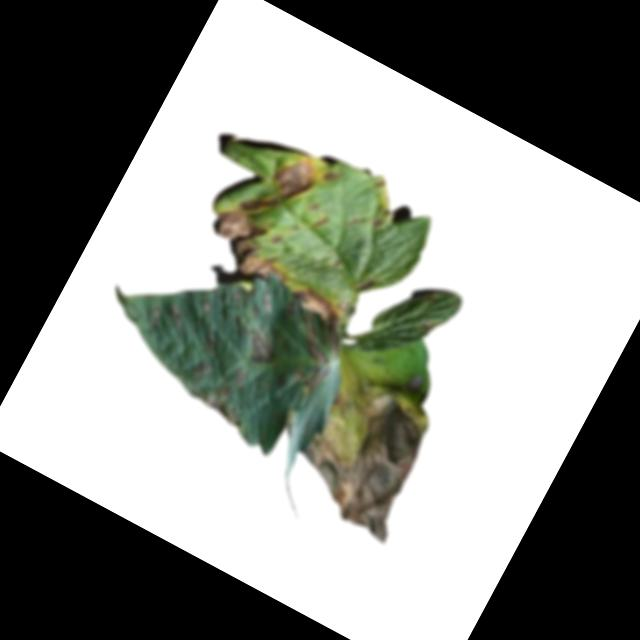Early_blight: (280, 367, 450, 547), (196, 200, 307, 293), (278, 315, 349, 397), (265, 146, 325, 209), (195, 373, 255, 429), (293, 285, 345, 327), (238, 325, 282, 366), (237, 183, 279, 222), (401, 370, 427, 399), (163, 302, 188, 326), (355, 273, 378, 297), (319, 165, 340, 187), (232, 366, 252, 388)
